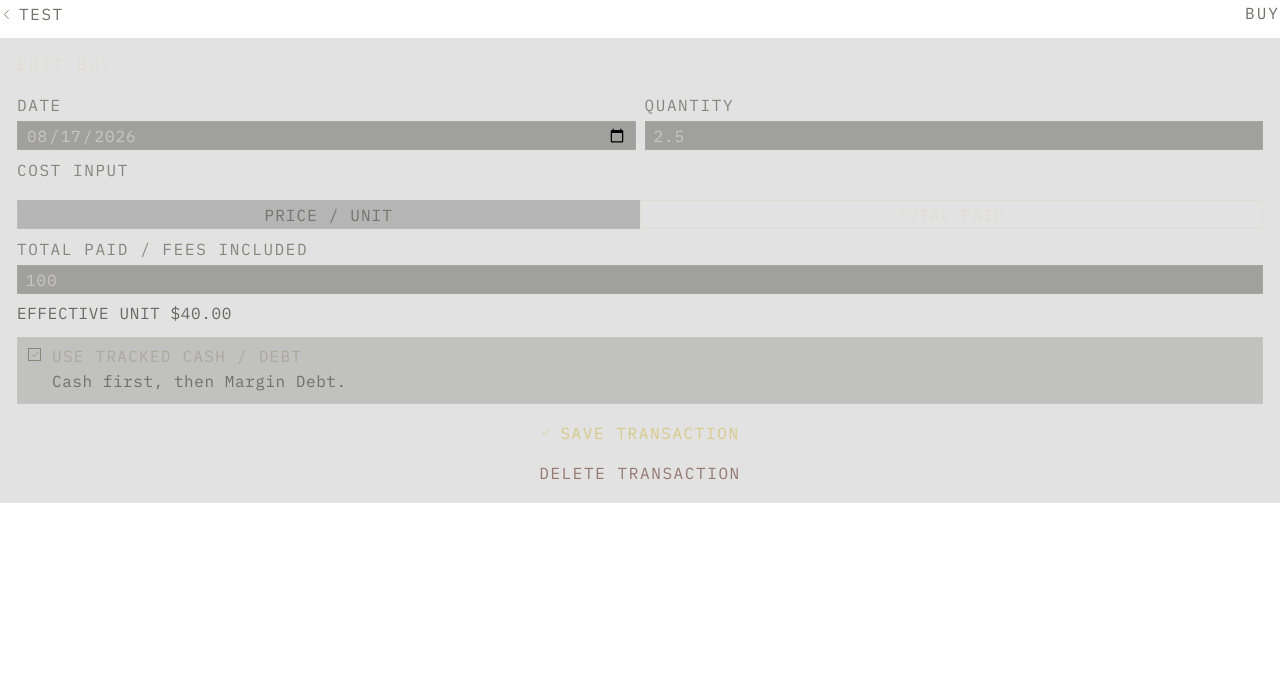
per-trade Cash and Debt control › offers an explicit atomic save when disabling account impact makes a later adjustment redundant
Click the checkbox labelled "USE TRACKED CASH / DEBT Cash first, then Margin Debt.".
click(177, 357)  # box [17,337,1263,404]
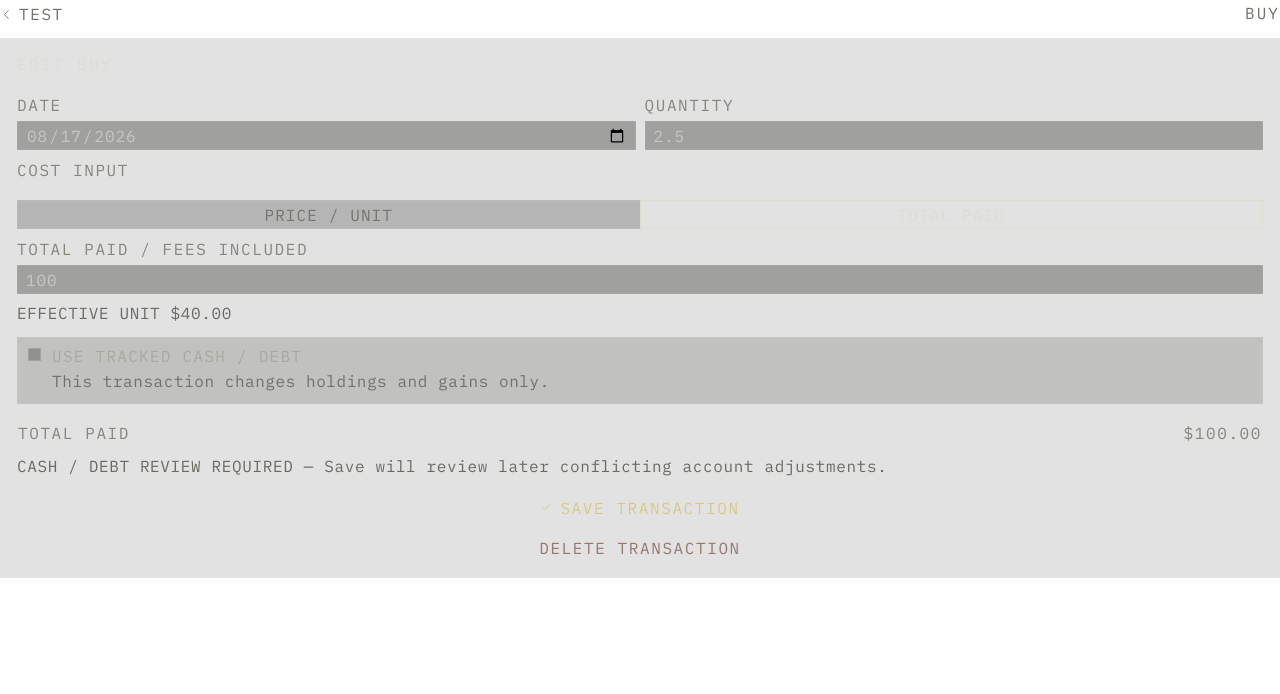
Expected: the checkbox labelled "USE TRACKED CASH / DEBT" is not checked, [17,337,1263,404]
Click the button "SAVE TRANSACTION".
click(640, 508)  # box [17,492,1263,523]
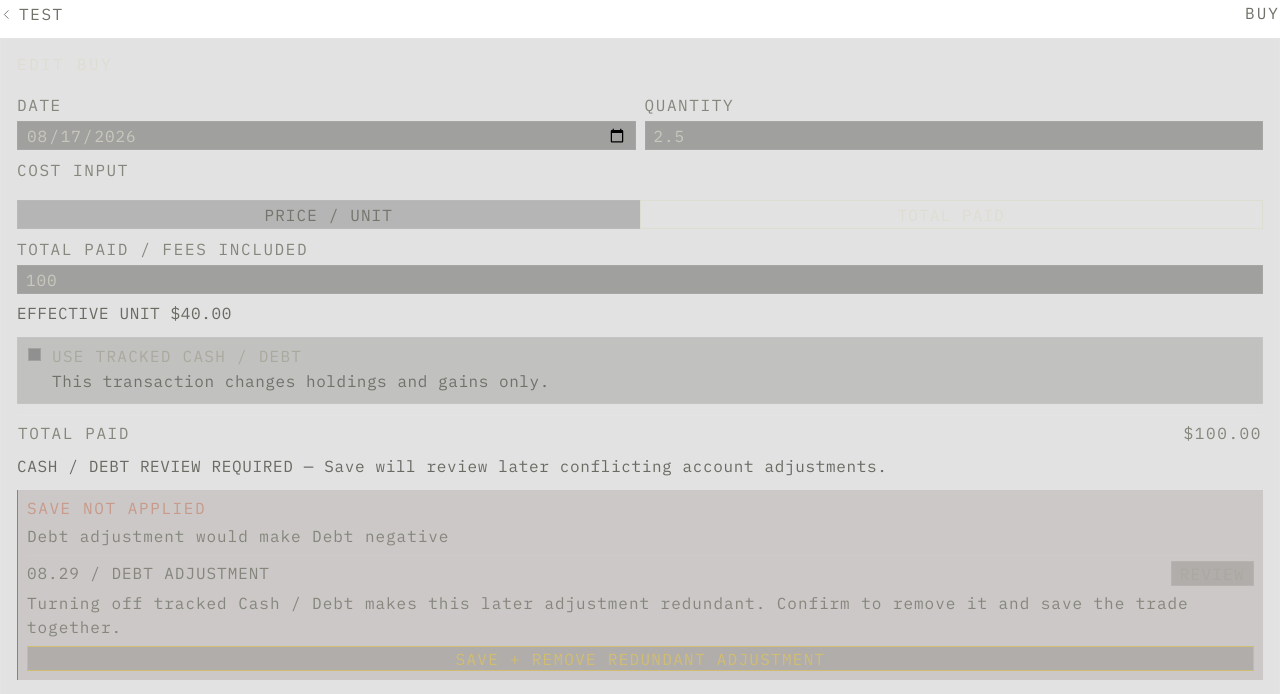
Click the button "SAVE + REMOVE REDUNDANT ADJUSTMENT".
click(640, 659)  # box [27,646,1254,671]
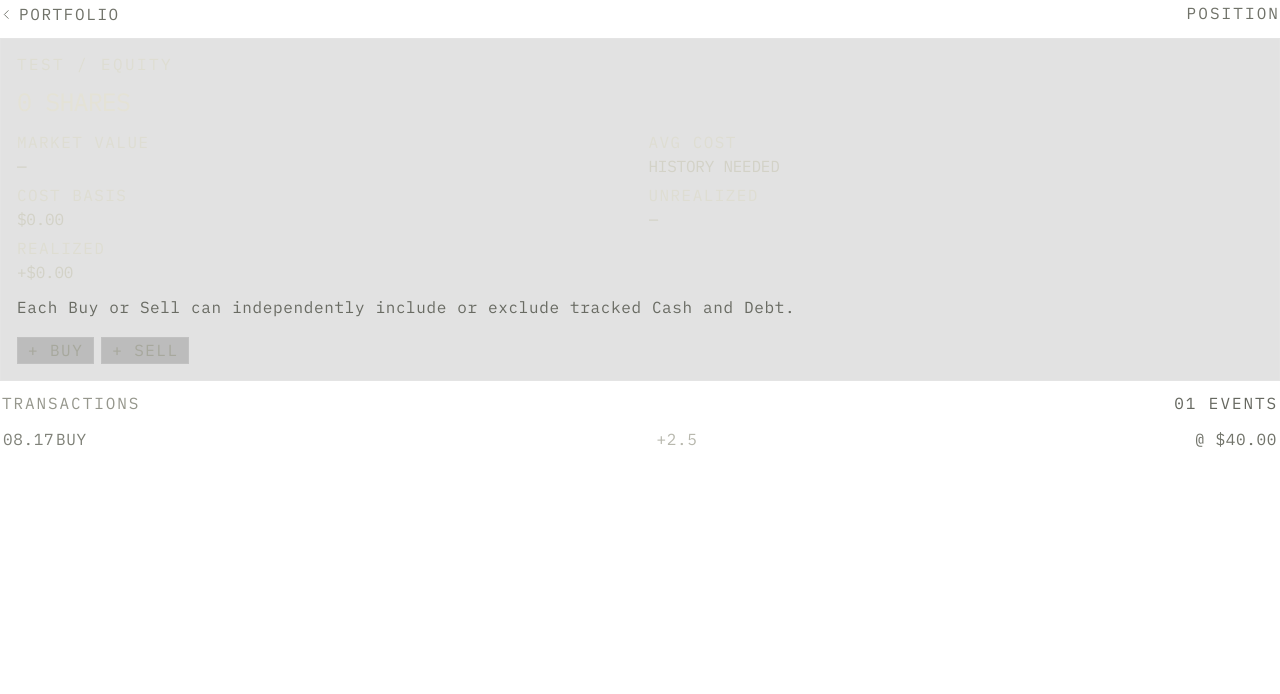
Expected: the text "POSITION" is shown, [1186,4,1279,24]
